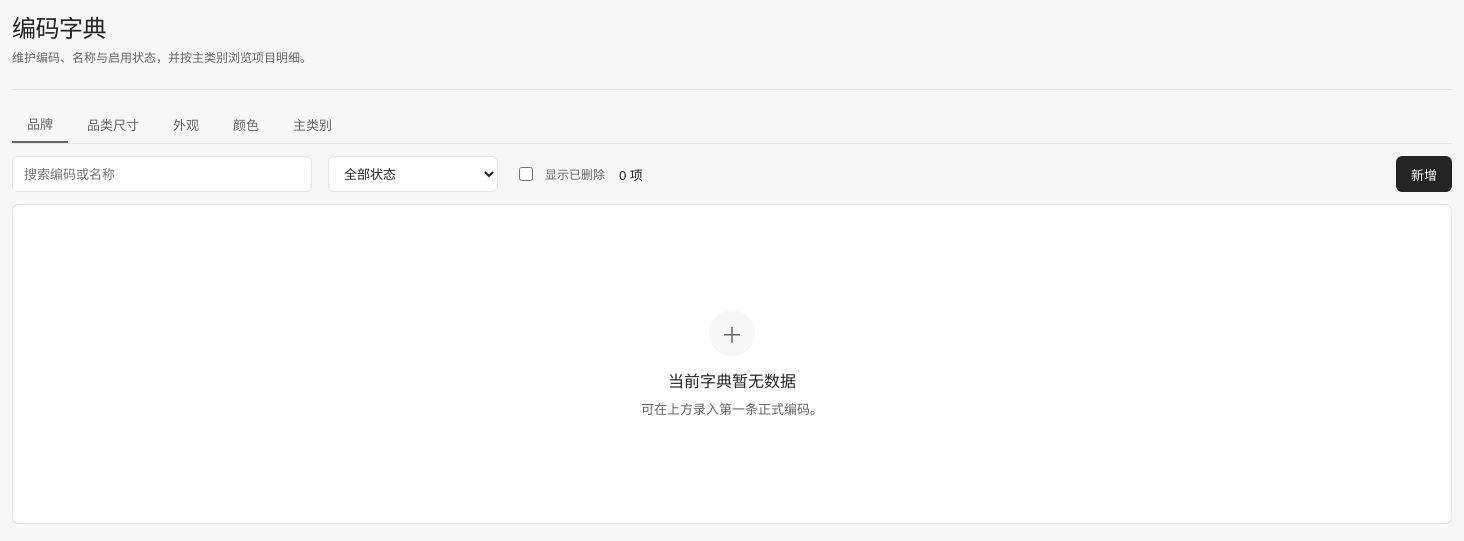
Test: DictionariesPage › reveals archived dictionary identities with a restore action
Check: the heading "当前字典暂无数据" is shown, box left=668, top=368, right=796, bottom=392
Click the checkbox labelled "显示已删除".
click(526, 174)  # box left=518, top=167, right=534, bottom=181
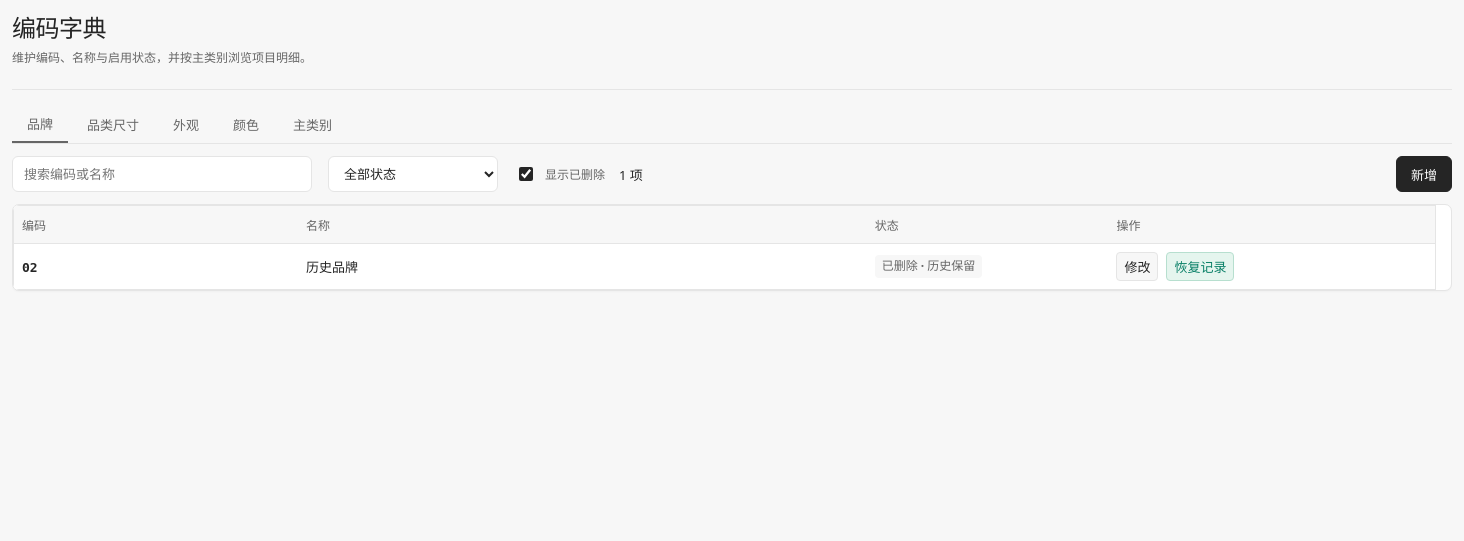
Check: the text "已删除 · 历史保留" is shown, box left=875, top=255, right=982, bottom=278
Check: the button with aria-label "恢复 历史品牌" is shown, box left=1166, top=252, right=1234, bottom=281
